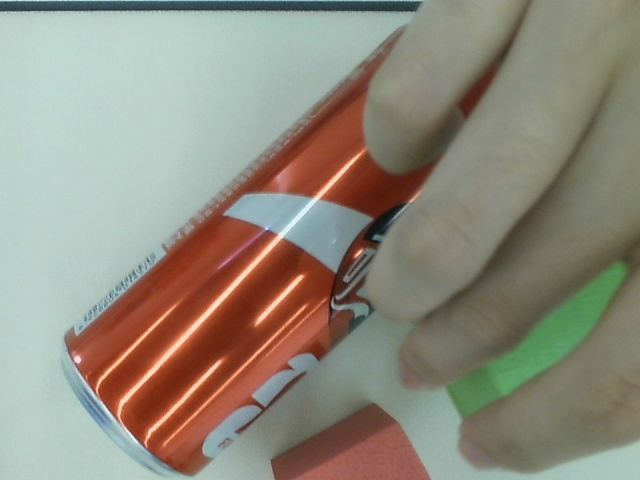cola: (47, 1, 566, 479)
greencube: (446, 250, 629, 432)
redcube: (260, 399, 443, 480)
